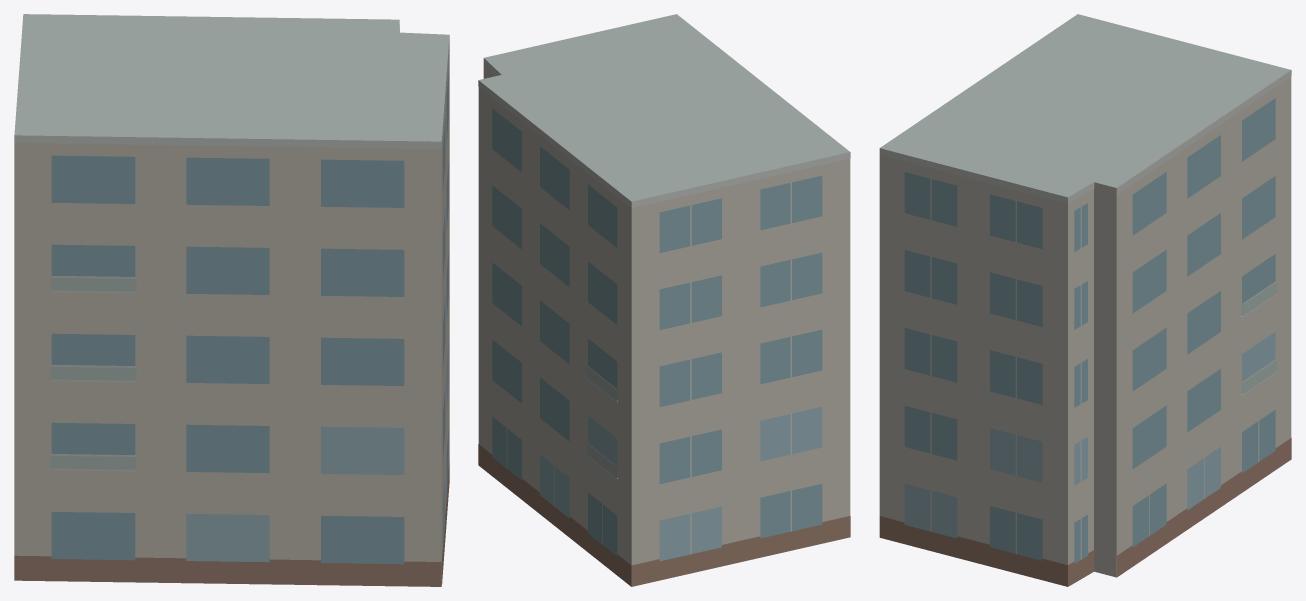
The model's file is survey-upis-32921870.glb.
3 views of the same model, side by side, from view 1: azimuth 30°, elevation 25°; view 2: azimuth 150°, elevation 25°; view 3: azimuth 270°, elevation 25° (orthographic). The views are drawn at different scales.
Parts seen in each view (by area): view 1: survey-upis-32921870.tmp; view 2: survey-upis-32921870.tmp; view 3: survey-upis-32921870.tmp.
Boxes of the visible parts, bbox=[...] form: survey-upis-32921870.tmp: bbox=[14, 14, 449, 586]; survey-upis-32921870.tmp: bbox=[478, 14, 850, 586]; survey-upis-32921870.tmp: bbox=[879, 14, 1291, 586].
Size of the model in its own units: 14.65 by 14.5 by 13.9.
